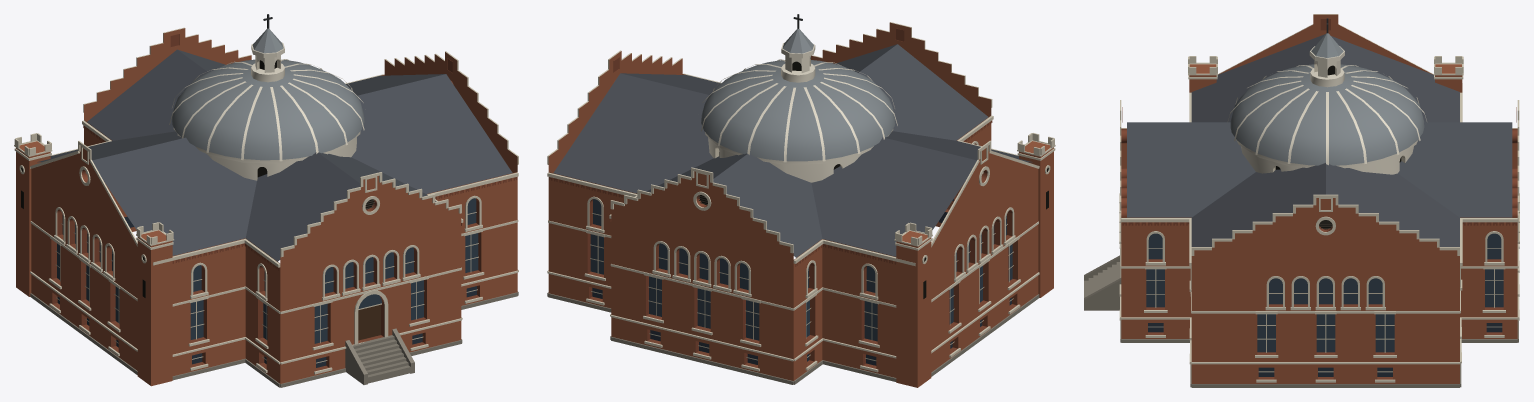
File: ch-bethel-ame-1913.glb
3 renders of one model, left to right at view 1: azimuth 30°, elevation 25°; view 2: azimuth 150°, elevation 25°; view 3: azimuth 270°, elevation 25°, orthographic.
Visible parts, largest first — view 1: ch_brick, ch_roof, ch_metal, ch_trim, ch_brick2, ch_wood, ch_base, ch_stain, ch_lead, ch_door, ch_glass; view 2: ch_brick, ch_roof, ch_metal, ch_trim, ch_brick2, ch_stain, ch_wood, ch_base, ch_lead, ch_glass; view 3: ch_brick, ch_roof, ch_metal, ch_trim, ch_stain, ch_wood, ch_base, ch_brick2, ch_glass, ch_lead.
Part boxes in pixels (<box>): ch_brick: <box>16,28,517,386</box>; ch_roof: <box>37,49,512,261</box>; ch_metal: <box>172,28,364,160</box>; ch_trim: <box>14,27,518,374</box>; ch_brick2: <box>51,34,517,370</box>; ch_wood: <box>169,42,364,180</box>; ch_base: <box>30,291,518,387</box>; ch_stain: <box>57,198,478,343</box>; ch_lead: <box>55,172,478,363</box>; ch_door: <box>358,304,380,340</box>; ch_glass: <box>57,216,476,367</box>; ch_brick: <box>548,22,1053,387</box>; ch_roof: <box>553,44,1032,257</box>; ch_metal: <box>701,29,895,161</box>; ch_trim: <box>547,22,1055,372</box>; ch_brick2: <box>548,28,1017,368</box>; ch_stain: <box>590,199,1012,341</box>; ch_wood: <box>701,42,897,182</box>; ch_base: <box>547,292,1039,384</box>; ch_lead: <box>590,172,1013,360</box>; ch_glass: <box>592,212,1011,365</box>; ch_brick: <box>1121,14,1517,383</box>; ch_roof: <box>1127,34,1512,246</box>; ch_metal: <box>1230,33,1424,165</box>; ch_trim: <box>1119,14,1519,382</box>; ch_stain: <box>1146,233,1503,352</box>; ch_wood: <box>1227,46,1426,174</box>; ch_base: <box>1084,255,1518,387</box>; ch_brick2: <box>1121,19,1517,379</box>; ch_glass: <box>1148,323,1502,376</box>; ch_lead: <box>1146,248,1503,372</box>.
Bounding box in the file's own units: 27.67 × 19.73 × 27.94.
